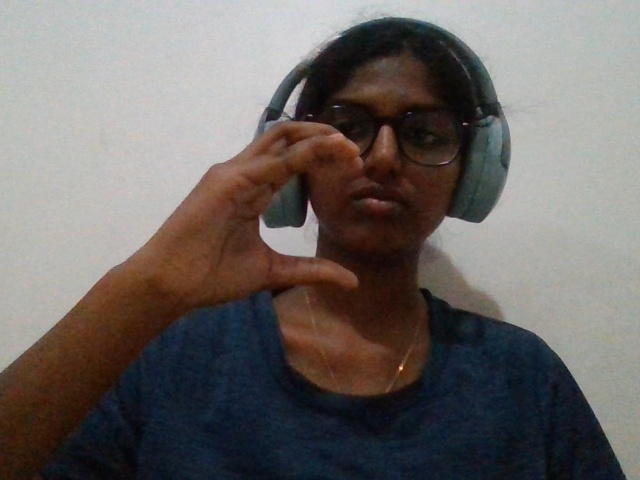C: (61, 104, 387, 369)
